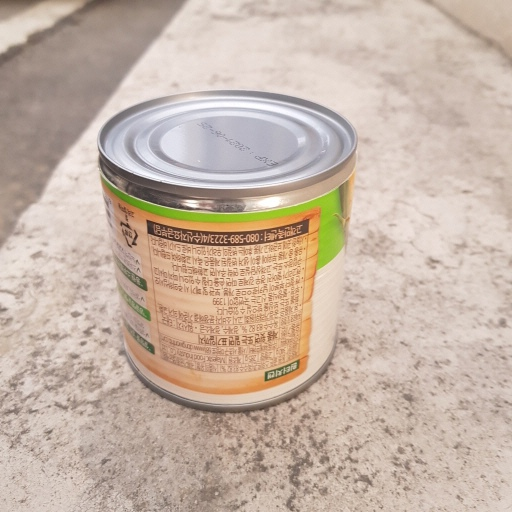Metal_1: (95, 88, 359, 412)
